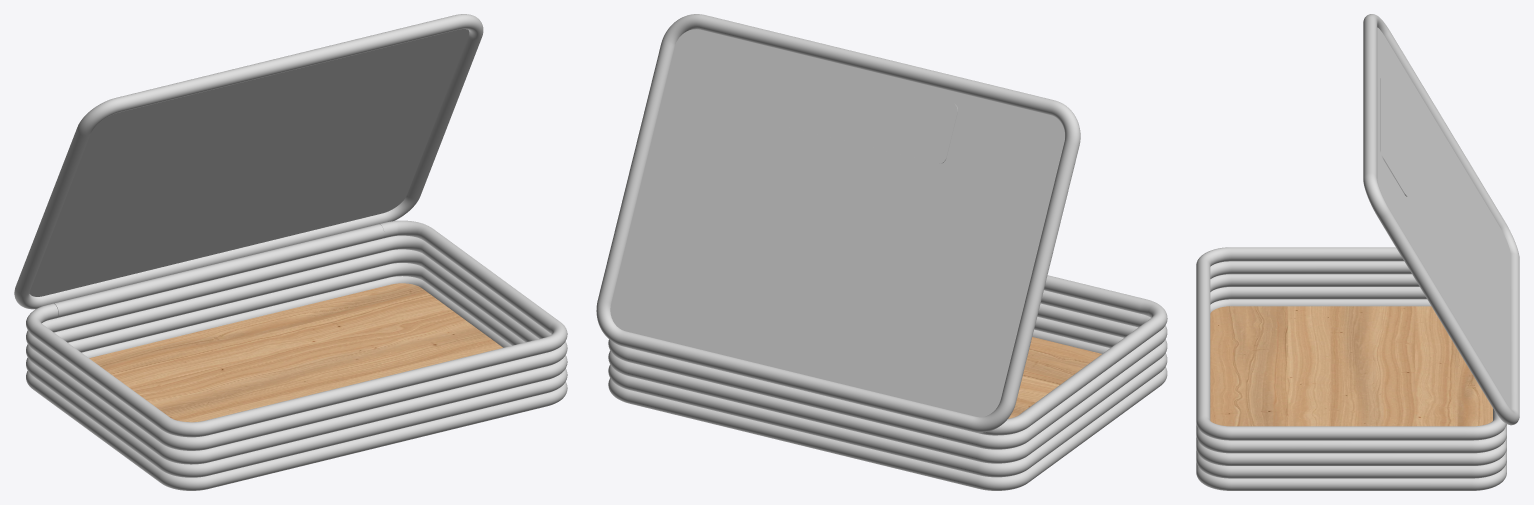
Rendered from malle-oenofy.glb.
The picture shows the model from 3 angles, left to right: view 1: azimuth 30°, elevation 25°; view 2: azimuth 150°, elevation 25°; view 3: azimuth 270°, elevation 25°; orthographic projection. The views are drawn at different scales.
Parts seen in each view (by area): view 1: COUVERCLE, fond bois, N1, N3, N4, N5, N2, N6, charnière N2/N1; view 2: COUVERCLE, N1, COUVERCLE.1, N3, N4, N5, N6, N2, fond bois; view 3: fond bois, COUVERCLE, N1, N2, N3, N5, N4, N6, COUVERCLE.1.
Part boxes in pixels (<box>): COUVERCLE: <box>29,29,469,296</box>; fond bois: <box>89,283,502,422</box>; N1: <box>14,14,483,309</box>; N3: <box>26,235,567,450</box>; N4: <box>26,249,567,464</box>; N5: <box>26,263,567,477</box>; N2: <box>26,220,567,437</box>; N6: <box>26,276,567,490</box>; charnière N2/N1: <box>54,224,384,317</box>; COUVERCLE: <box>610,29,1064,417</box>; N1: <box>596,14,1080,432</box>; COUVERCLE.1: <box>771,63,957,163</box>; N3: <box>608,290,1167,449</box>; N4: <box>608,303,1167,463</box>; N5: <box>608,317,1167,477</box>; N6: <box>608,329,1167,490</box>; N2: <box>632,275,1167,435</box>; fond bois: <box>1008,337,1101,418</box>; fond bois: <box>1210,306,1492,426</box>; COUVERCLE: <box>1377,27,1510,408</box>; N1: <box>1363,14,1519,425</box>; N2: <box>1196,247,1506,440</box>; N3: <box>1196,261,1506,453</box>; N5: <box>1196,287,1506,478</box>; N4: <box>1196,274,1506,465</box>; N6: <box>1196,299,1506,490</box>; COUVERCLE.1: <box>1380,78,1407,196</box>.
Size of what is drawn, in the model's own units: 0.6203 by 0.4874 by 0.458.
Materials: 2 (1 with a texture image).
